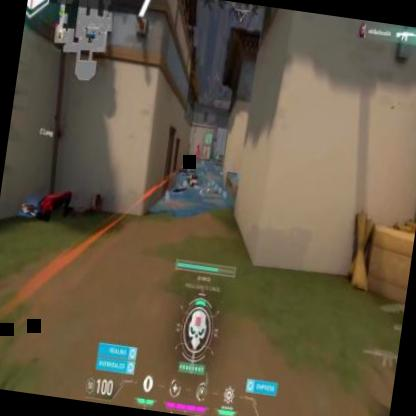enemy: (193, 140, 202, 162), (202, 143, 210, 159)
enemy_head: (204, 144, 208, 148), (198, 141, 200, 145)
